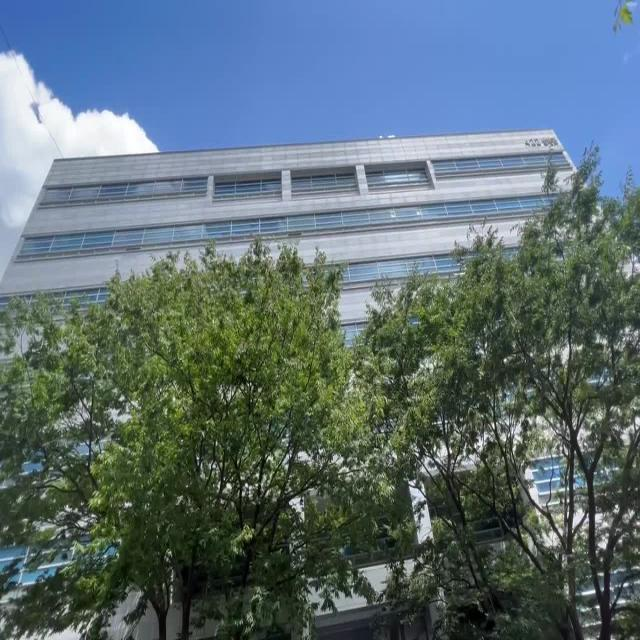building: (37, 137, 580, 265)
